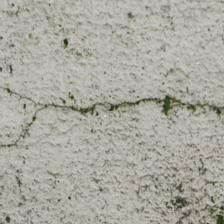Crack: (81, 0, 141, 65), (200, 27, 224, 73)
